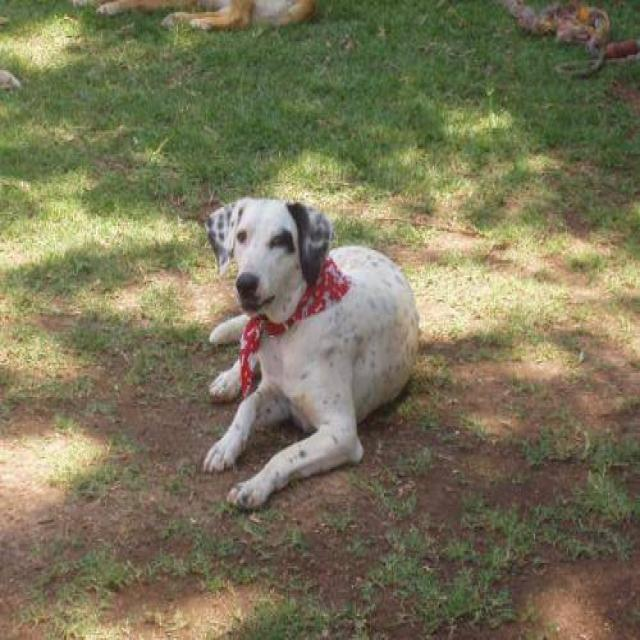dog: (201, 195, 420, 510)
